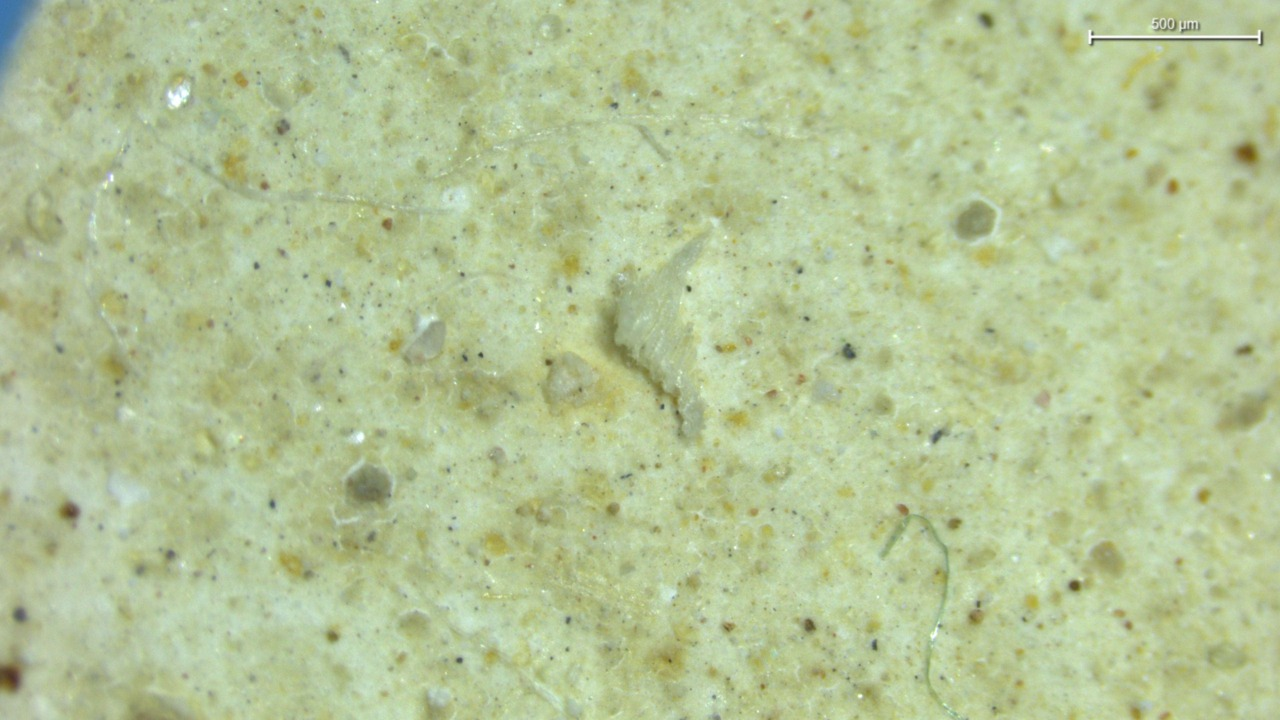microplastic_fragment: (614, 236, 706, 438), (544, 351, 599, 406), (405, 320, 446, 363)
